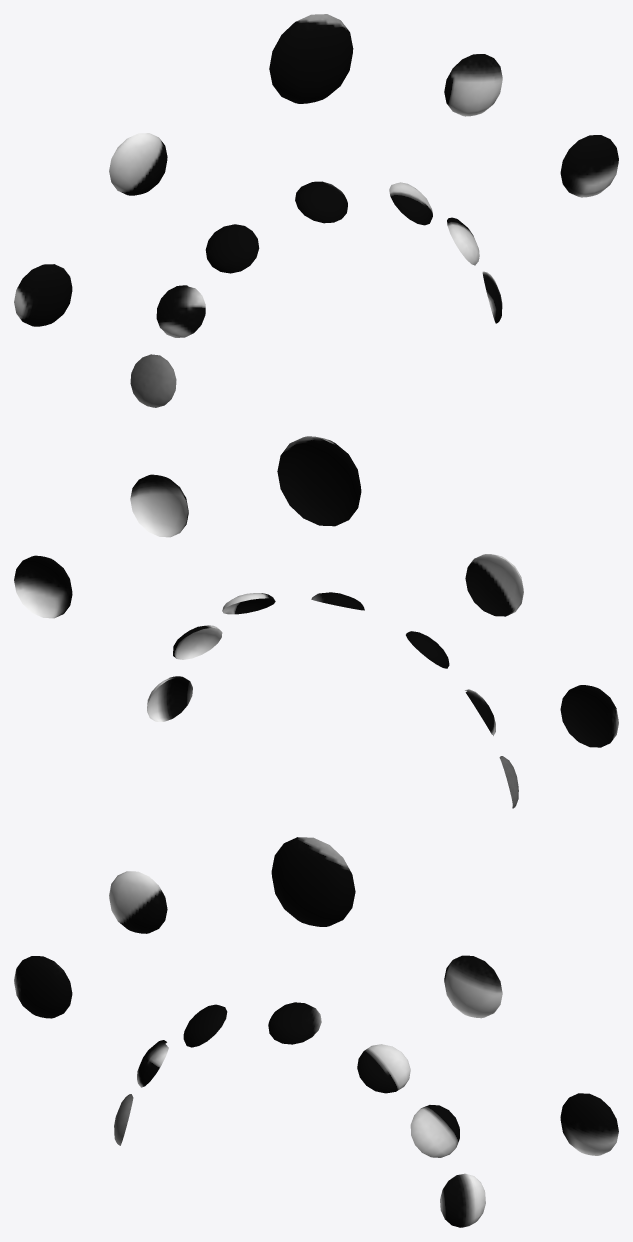
Rendered from peruHead_lapis.gltf.
3 renders of one model, top to bottom at view 1: azimuth 30°, elevation 25°; view 2: azimuth 150°, elevation 25°; view 3: azimuth 330°, elevation 25°, orthographic.
Visible parts, largest first — view 1: Plane.045; view 2: Plane.045; view 3: Plane.045.
Part boxes in pixels (<box>): Plane.045: <box>14,14,618,407</box>; Plane.045: <box>14,436,618,808</box>; Plane.045: <box>14,837,618,1227</box>.
Bounding box in the file's own units: 12.99 × 6.92 × 0.9952.
1 material, 1 textured.
